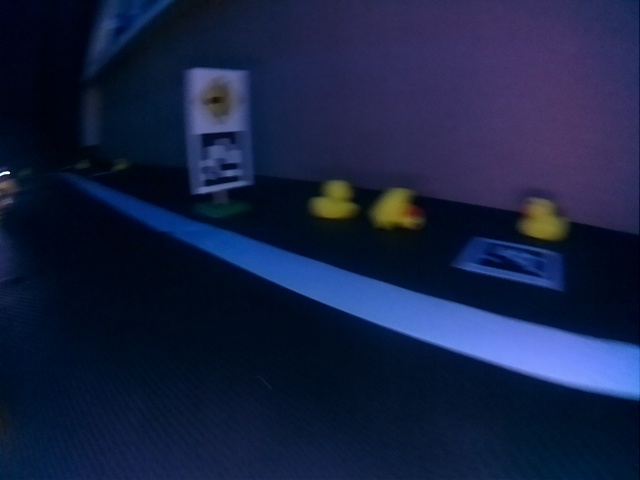Duckie: (372, 189, 423, 228), (518, 198, 567, 238), (312, 180, 357, 217)
Intersection sign: (195, 74, 245, 128)
QR code: (456, 239, 564, 289), (195, 130, 250, 189)
